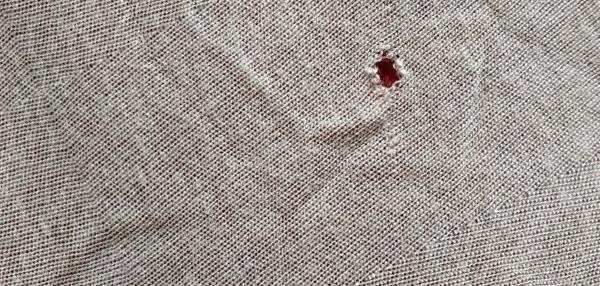hole: (358, 45, 411, 100)
